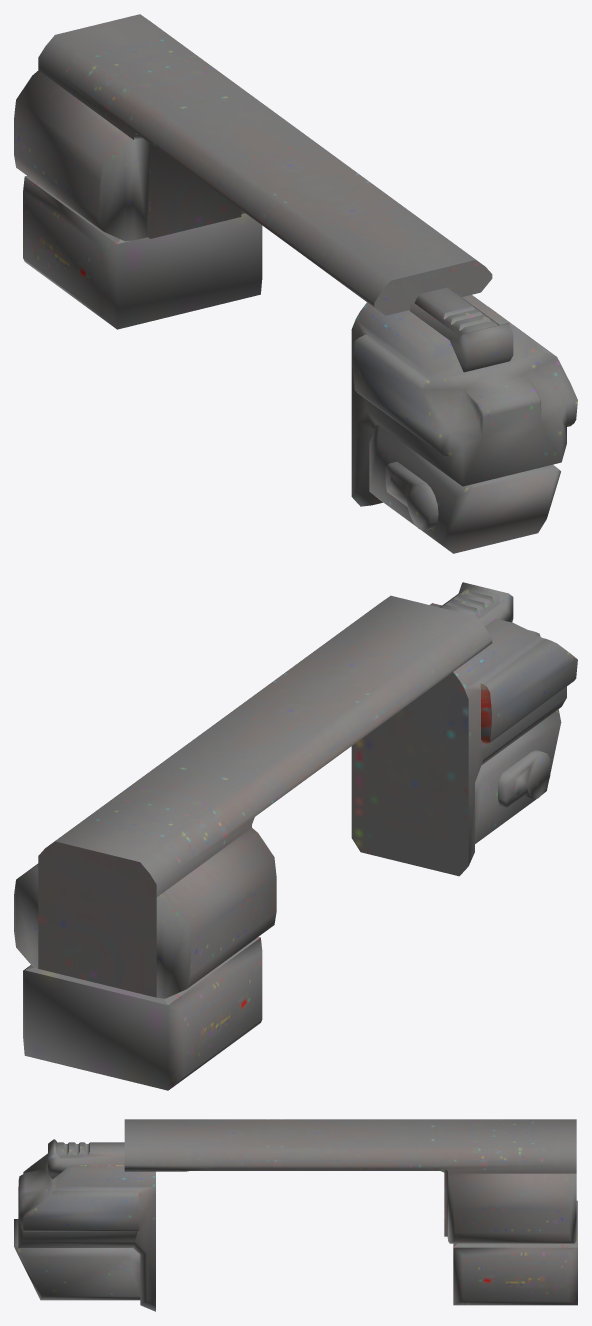
The model's file is body4.obj.
The picture shows the model from 3 angles, top to bottom: view 1: azimuth 30°, elevation 25°; view 2: azimuth 150°, elevation 25°; view 3: azimuth 270°, elevation 25°; orthographic projection. The views are drawn at different scales.
Parts seen in each view (by area): view 1: body4; view 2: body4; view 3: body4.
Boxes of the visible parts, x1,y1,x2,y2 form: body4: (14, 14, 577, 553); body4: (14, 582, 577, 1090); body4: (14, 1119, 577, 1311).
Bounding box in the file's own units: 6.57 × 8.53 × 26.85.
